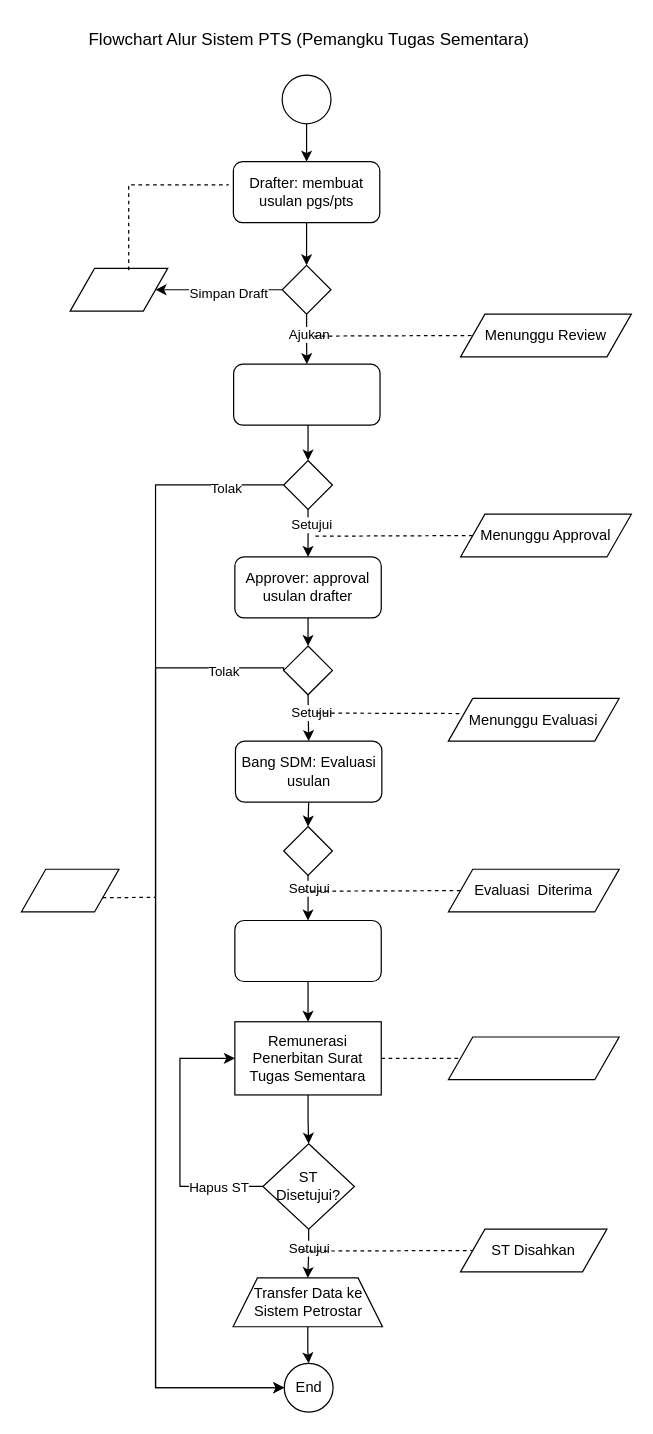
This 653x1434 diagram has some shape labels left out. Here are the shapes that lost their labels. From the top down, the box of each, then its label:
(281, 74, 331, 124): Start
(69, 267, 168, 311): Draft
(232, 363, 380, 425): Reviewer: review usulan drafter
(20, 868, 119, 912): Ditolak
(234, 919, 381, 981): Remunerasi/Bang SDM : Evaluasi Usulan Final
(447, 1036, 619, 1080): Penerbitan ST
